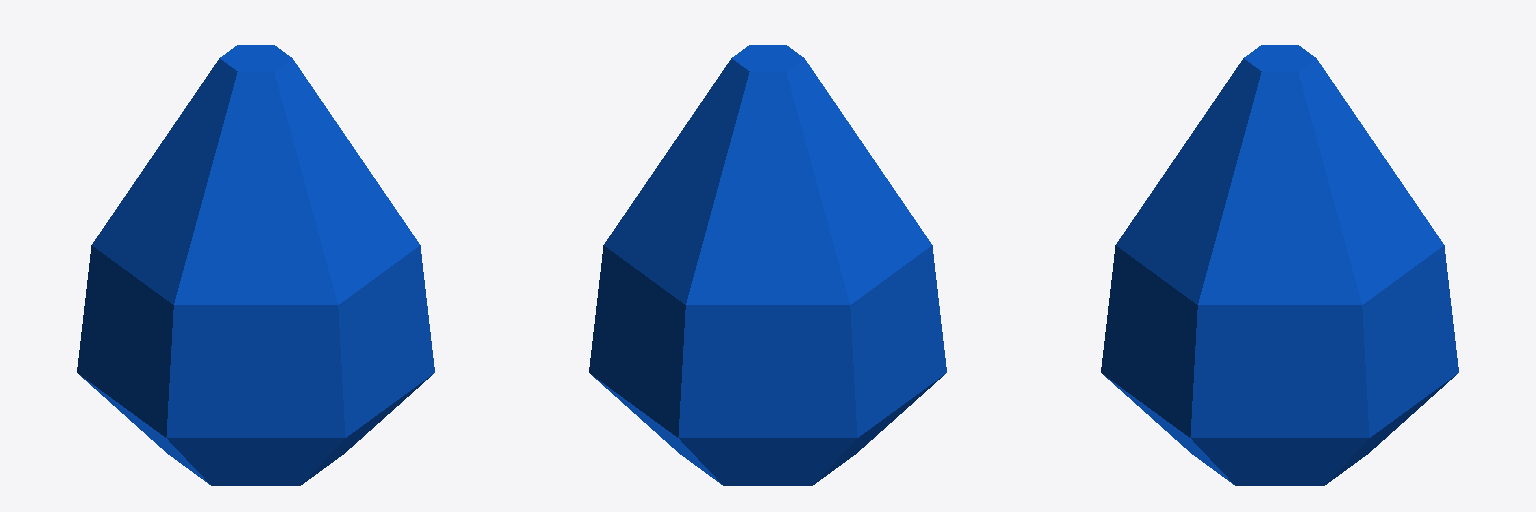
File: Bottle_Fill.obj
The picture shows the model from 3 angles: view 1: azimuth 30°, elevation 25°; view 2: azimuth 150°, elevation 25°; view 3: azimuth 270°, elevation 25°; orthographic projection.
Parts seen in each view (by area): view 1: Fill; view 2: Fill; view 3: Fill.
Part boxes in pixels (left/top/right/bottom): Fill: left=77, top=45, right=434, bottom=485; Fill: left=589, top=45, right=946, bottom=485; Fill: left=1101, top=45, right=1458, bottom=485.
Size of the model in its own units: 1.1 by 1.54 by 1.27.